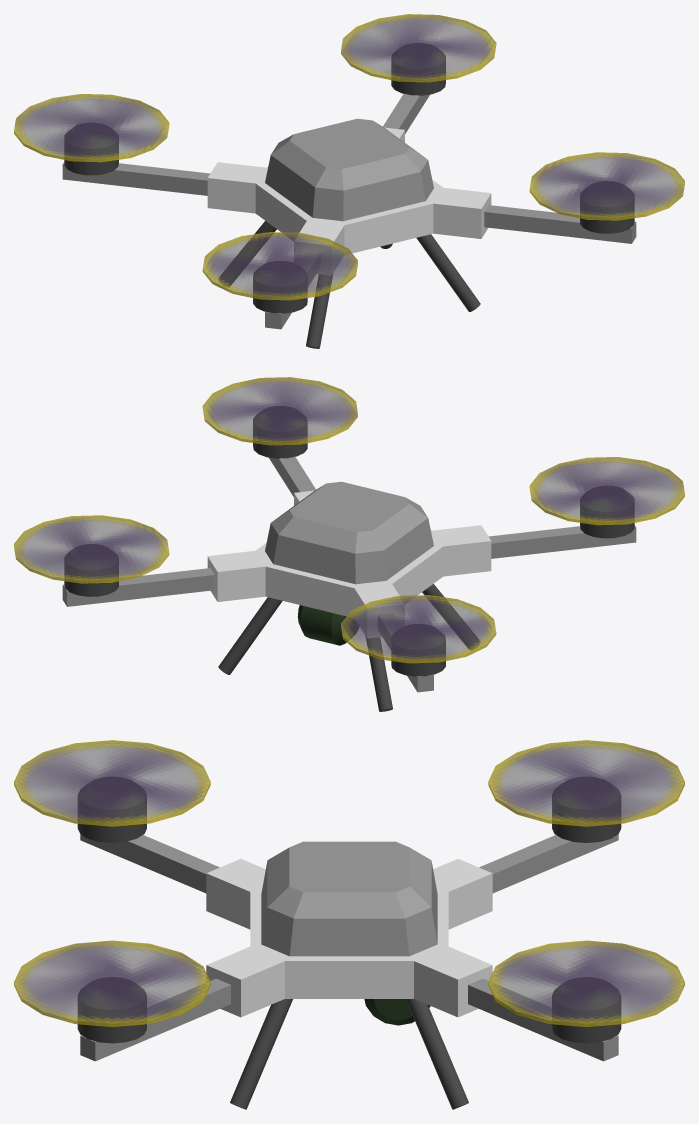
File: drone.glb
3 renders of one model, top to bottom at view 1: azimuth 30°, elevation 25°; view 2: azimuth 150°, elevation 25°; view 3: azimuth 270°, elevation 25°, orthographic. The views are drawn at different scales.
Parts seen in each view (by area): view 1: Cylinder.001; view 2: Cylinder.001; view 3: Cylinder.001.
Boxes of the visible parts, x1,y1,x2,y2 form: Cylinder.001: [14, 14, 684, 348]; Cylinder.001: [14, 377, 684, 711]; Cylinder.001: [14, 740, 684, 1109].
Size of the model in its own units: 0.2685 by 0.0859 by 0.2685.
5 materials, 1 textured.
